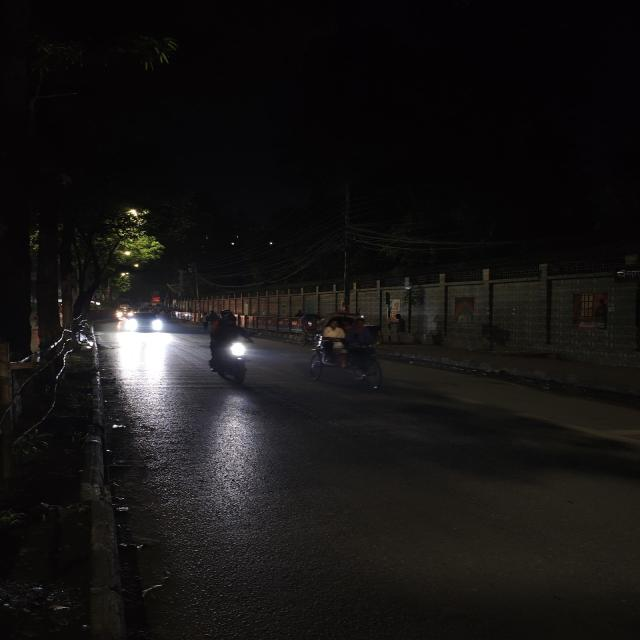car: (122, 309, 165, 335)
motorcycle: (197, 312, 258, 387)
pedestrian: (198, 311, 210, 331)
rickshaw: (314, 316, 384, 392), (296, 310, 321, 350)
